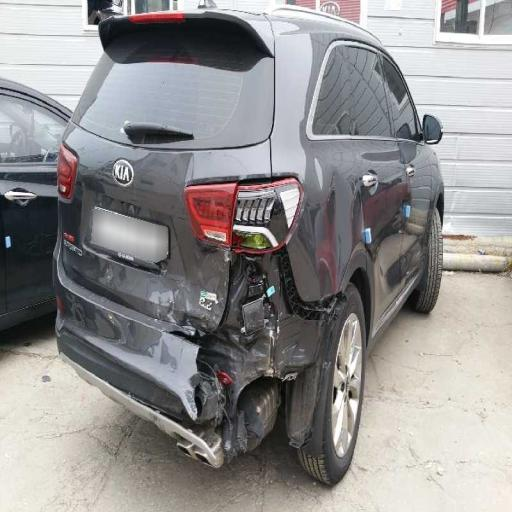broken: (146, 181, 337, 458)
